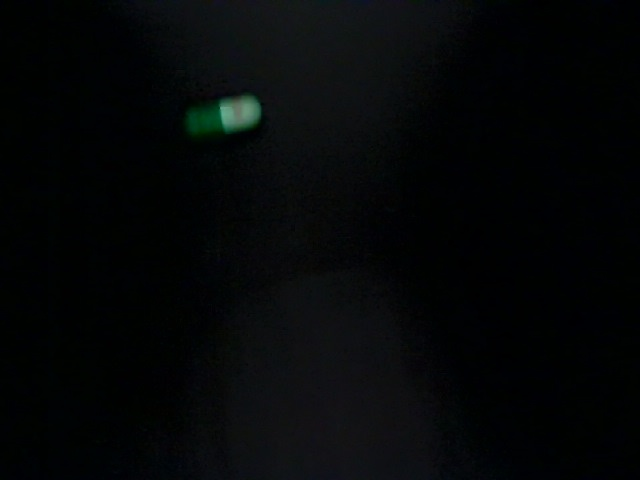YHLJ: (6, 309, 166, 407)
